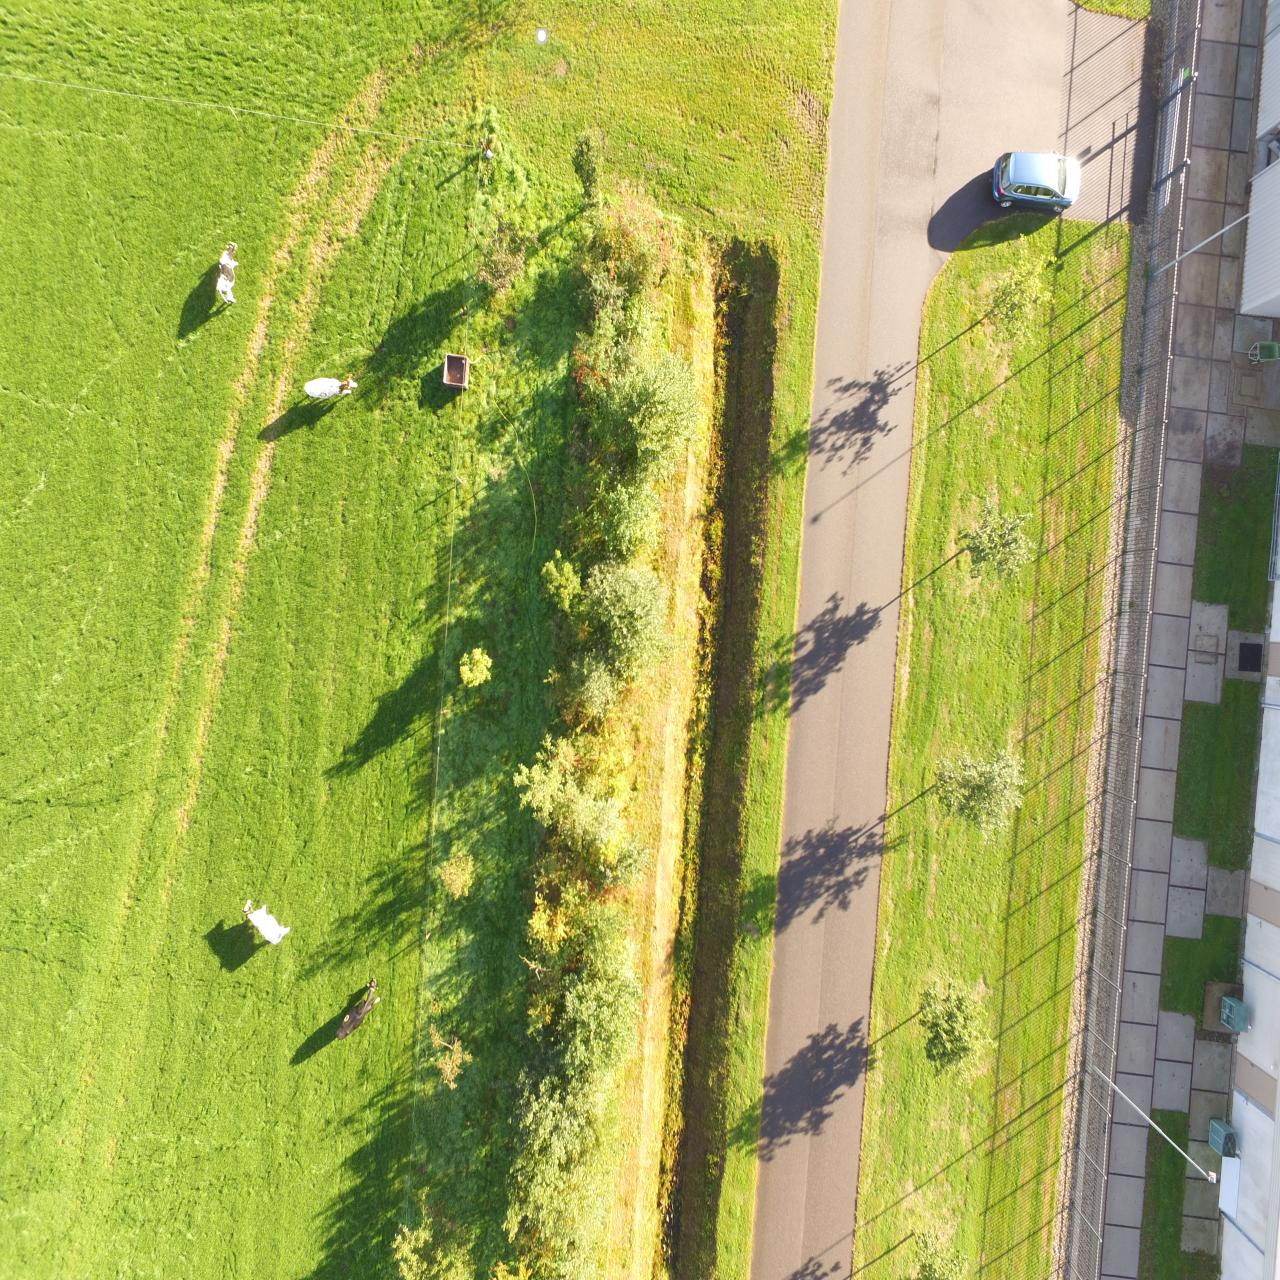cow: (335, 976, 380, 1040), (244, 896, 290, 946), (216, 240, 238, 305), (302, 377, 356, 399)
